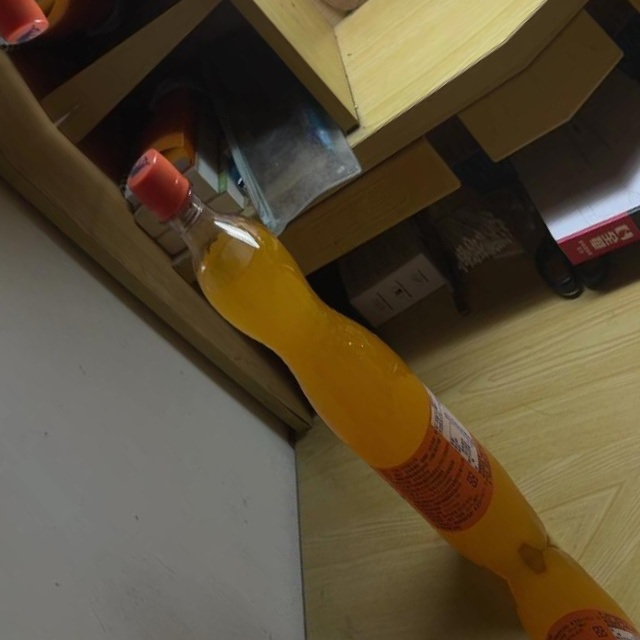Fanta: (106, 103, 561, 614)
